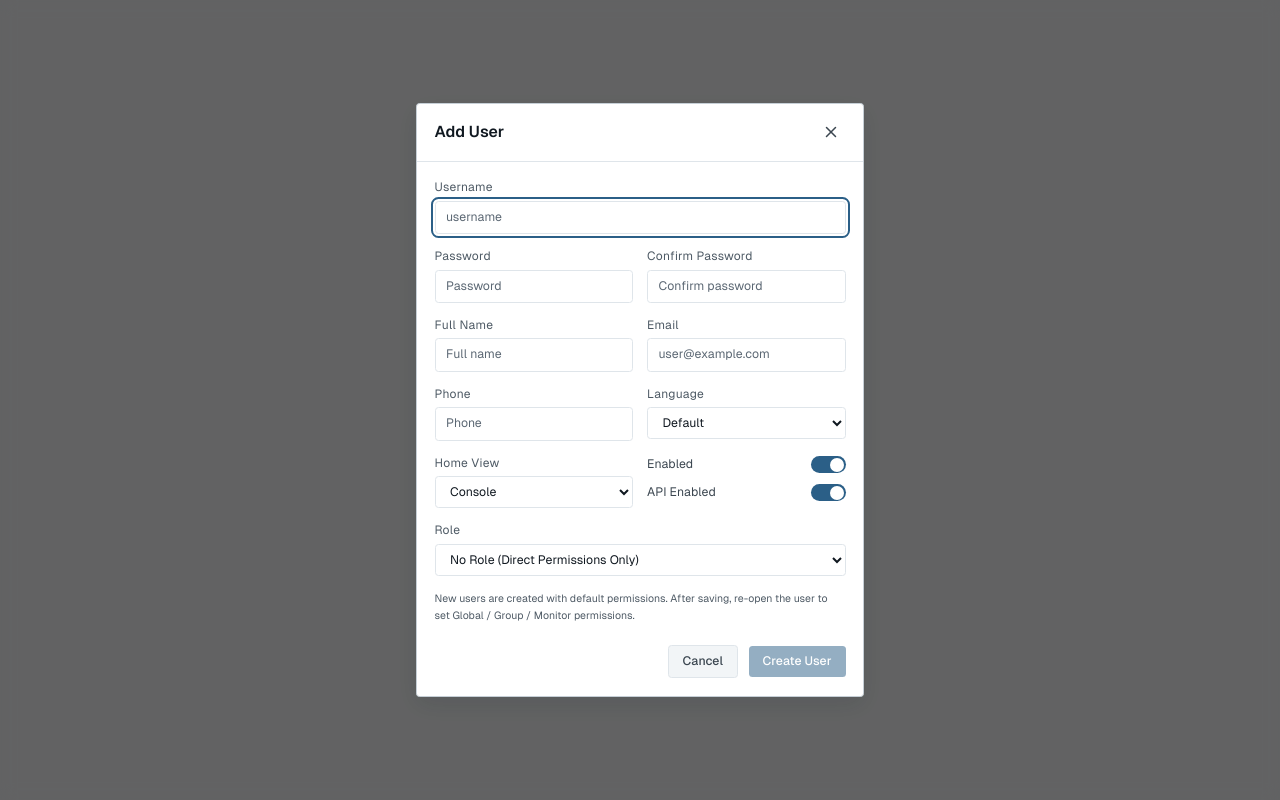
UserEditor — create › refuses to submit until a username and a password are present
The image size is (1280, 800).
Expected: the button "Create User" is disabled, [749,646,846,677]
Type "newop" into the field with placeholder "Username" at (640, 217), box [434,201,846,234]
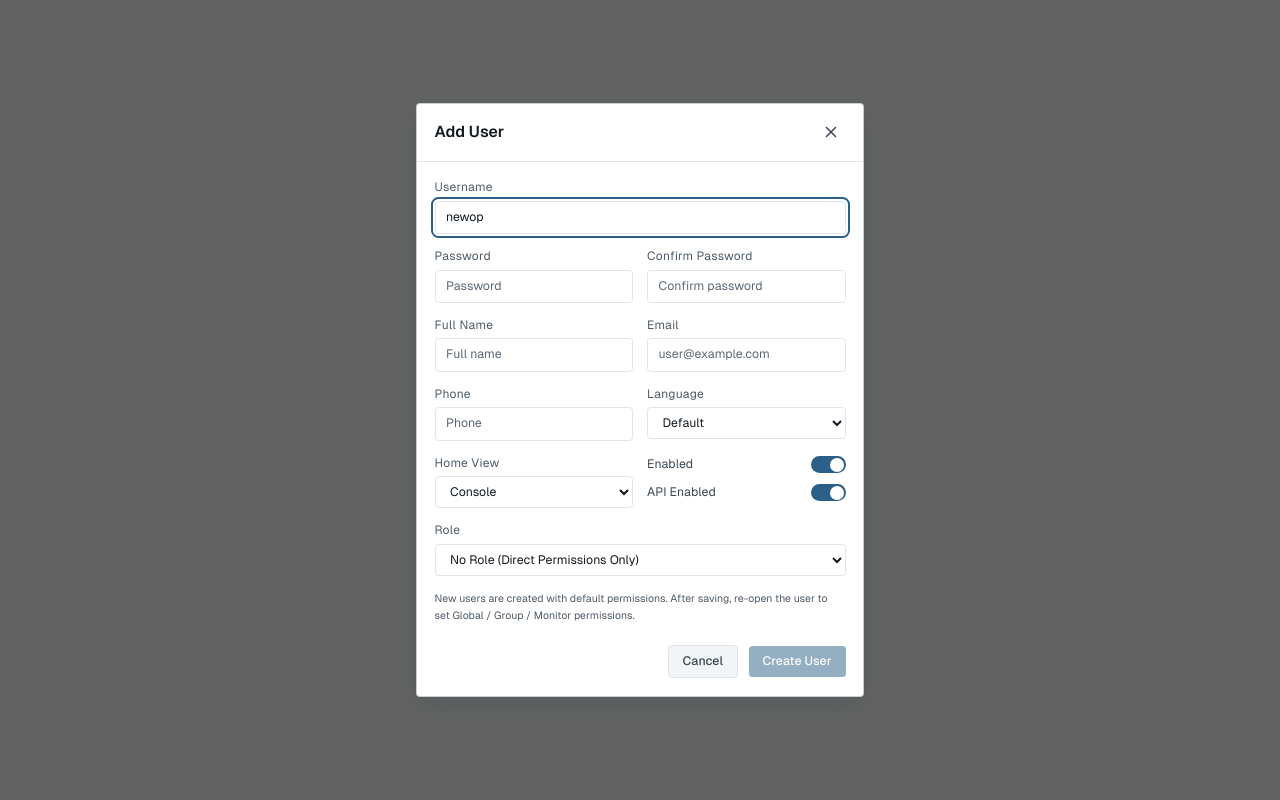
Expected: the button "Create User" is disabled, [749,646,846,677]
Type "secret" into the password field with placeholder "Password" at (534, 286), box [434,270,633,303]
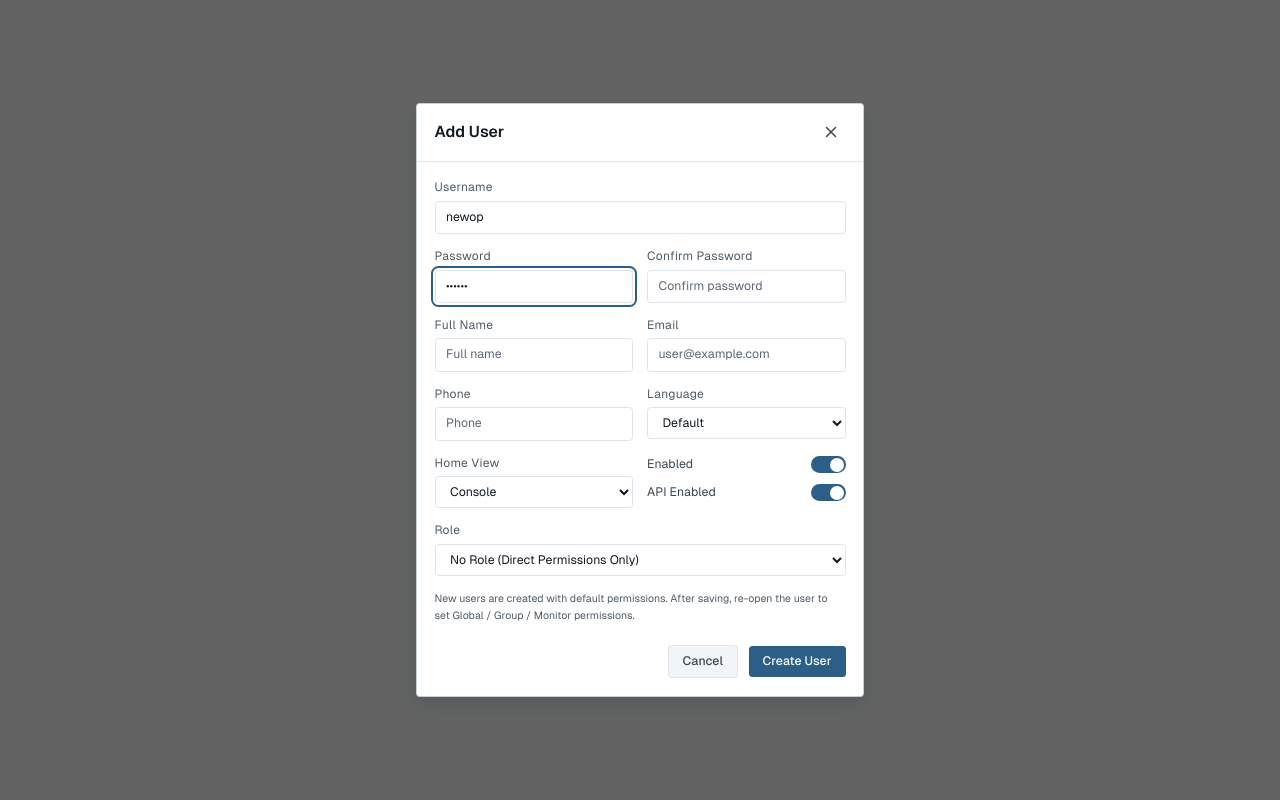
Expected: the button "Create User" is enabled, [749,646,846,677]
